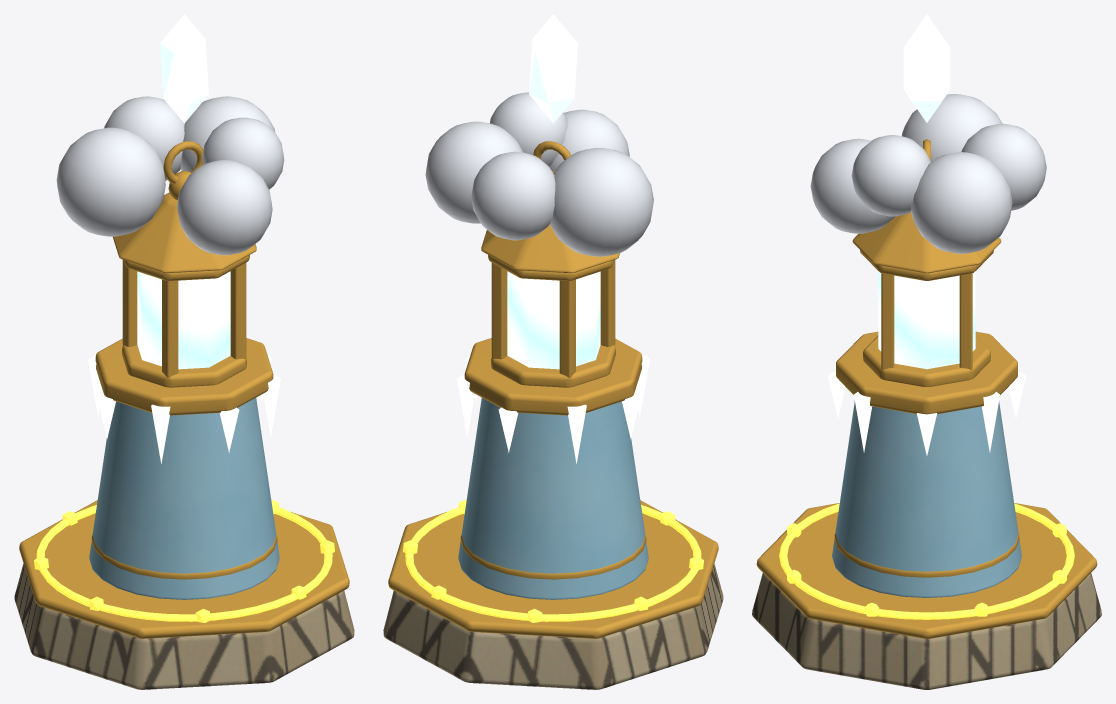
Rendered from frost_puff.glb.
3 renders of one model, left to right at view 1: azimuth 30°, elevation 25°; view 2: azimuth 150°, elevation 25°; view 3: azimuth 270°, elevation 25°, orthographic.
Parts seen in each view (by area): view 1: frost_puff; view 2: frost_puff; view 3: frost_puff.
Boxes of the visible parts, x1,y1,x2,y2 form: frost_puff: [14, 14, 354, 689]; frost_puff: [383, 14, 723, 689]; frost_puff: [752, 14, 1101, 689].
Size of the model in its own units: 1.02 by 1.95 by 1.02.
Materials: 6 (1 with a texture image).
